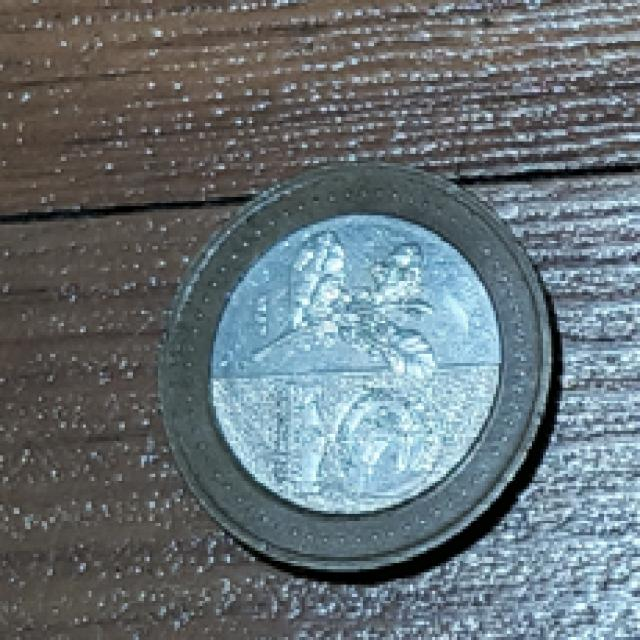20_peso: (161, 163, 551, 569)
